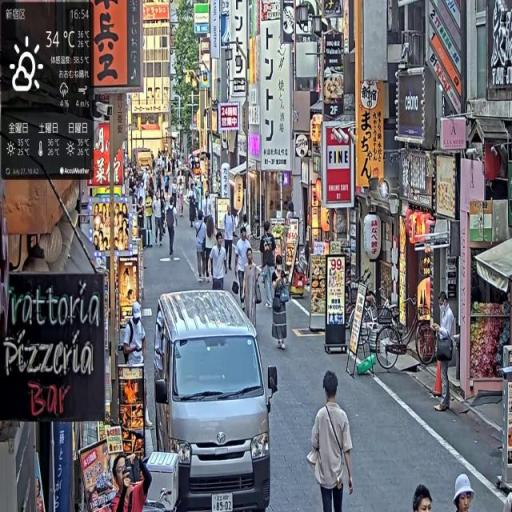person: (308, 369, 356, 512), (433, 293, 456, 414), (260, 220, 280, 308), (243, 249, 263, 329), (234, 225, 252, 305), (210, 235, 229, 294), (195, 211, 208, 285), (224, 205, 237, 276), (166, 197, 179, 260)
